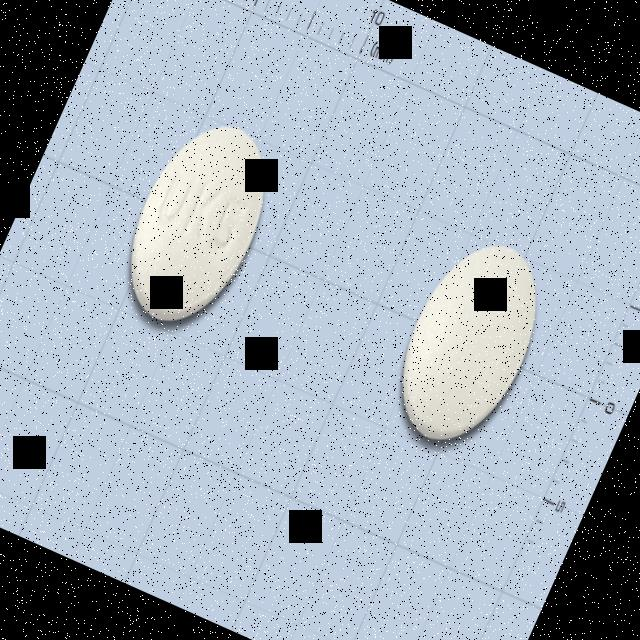Uniciprosacin Tab: (103, 104, 294, 344)
